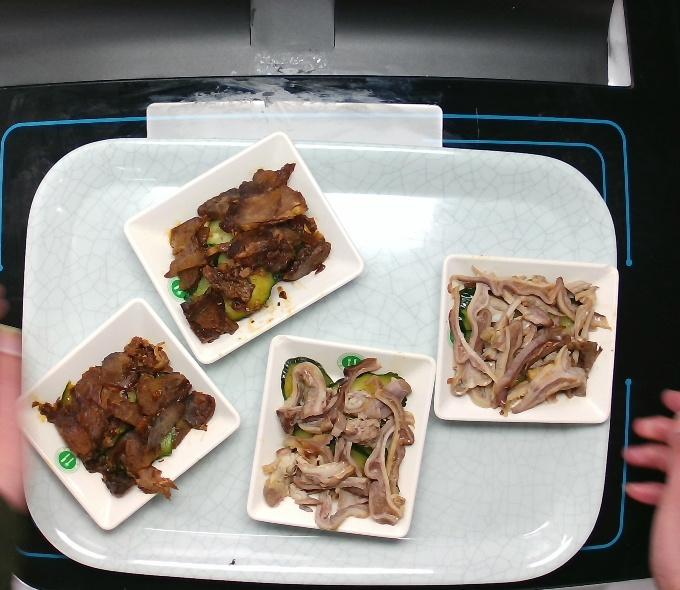wcq-JiangNiuRou: (154, 147, 339, 345), (32, 325, 224, 507)
wcq-ZhuDu: (260, 333, 425, 537), (433, 257, 615, 418)
